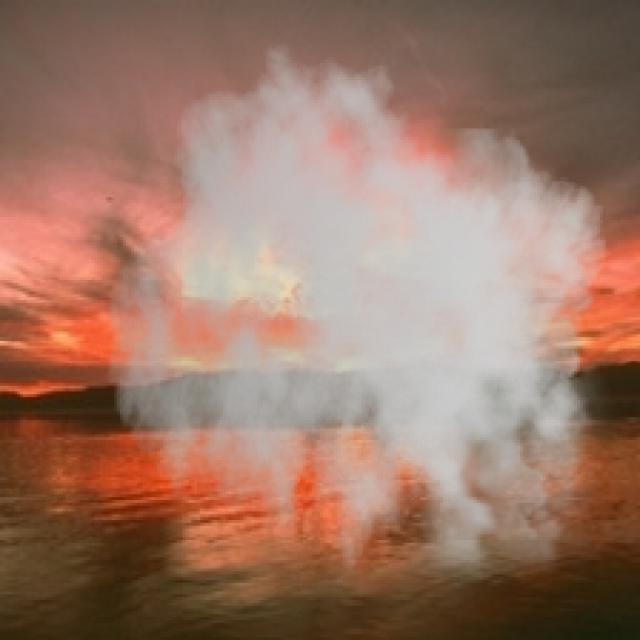Smoke: (106, 42, 623, 608)
